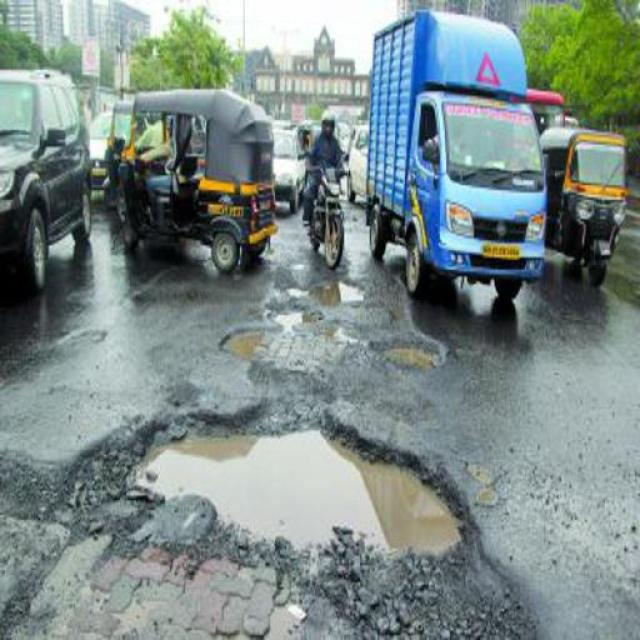puddle: (160, 427, 434, 553), (310, 284, 360, 312)
